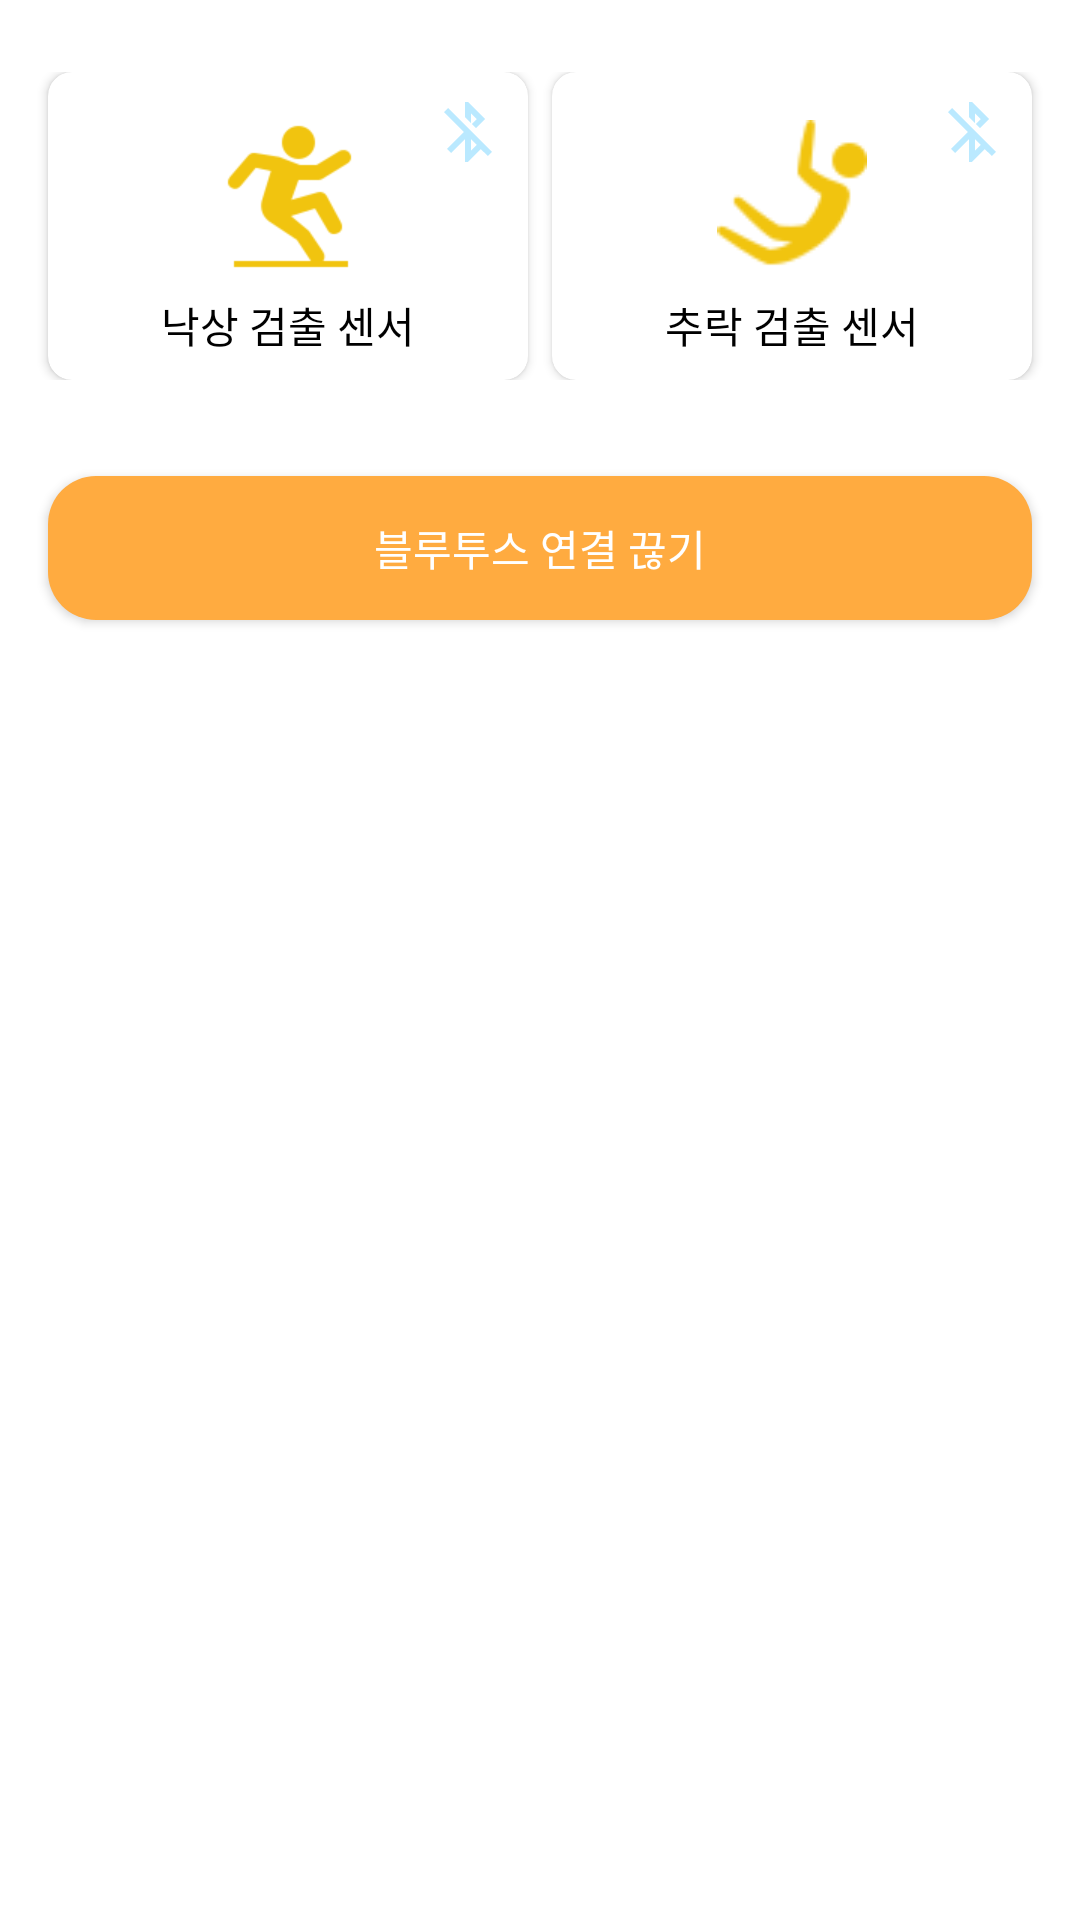

Named icons in this screenshot (1080w x 1920h) and their bounding boxes, BBox(x1, y1, x2, y2):
slippery: BBox(227, 125, 352, 268)
